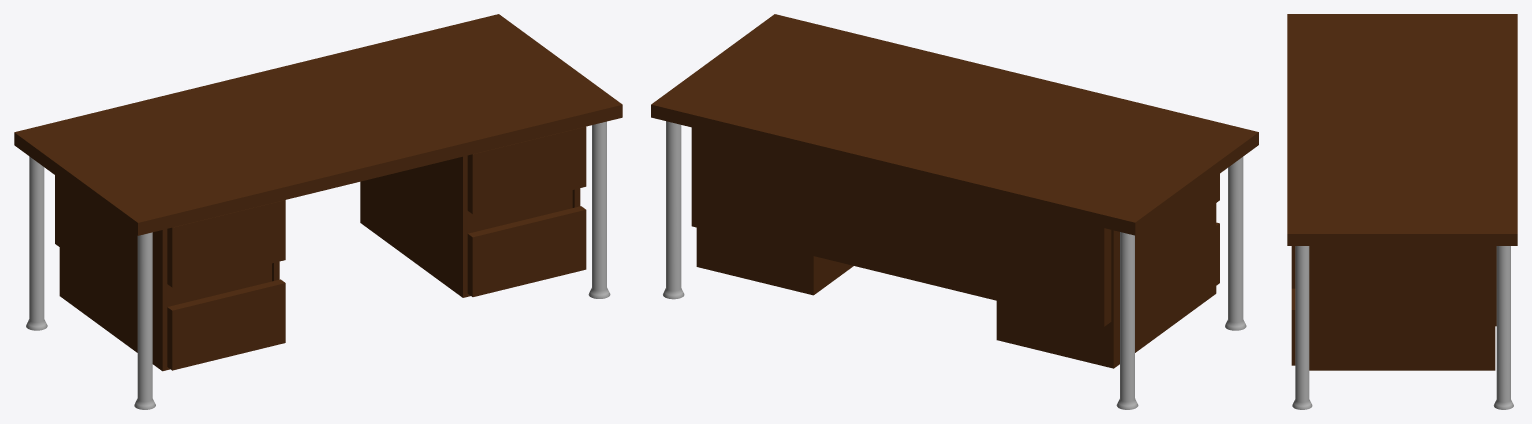
The model's file is desk.glb.
3 views of the same model, side by side, from view 1: azimuth 30°, elevation 25°; view 2: azimuth 150°, elevation 25°; view 3: azimuth 270°, elevation 25° (orthographic). The views are drawn at different scales.
Visible parts, largest first — view 1: Surface, LeftDrawers, RightDrawers, BottomDrawer.001, BottomDrawer, TopDrawer.001, TopDrawer, BackLeftLeg, FrontLeftLeg, BackRightLeg, DrawerDivider.001, DrawerDivider; view 2: Surface, BackPlate, LeftDrawers, RightDrawers, FrontRightLeg, BackLeftLeg, FrontLeftLeg; view 3: Surface, RightDrawers, BackRightLeg, FrontRightLeg, BottomDrawer.001.
Boxes of the visible parts, left/top/right/bottom form: Surface: left=14, top=14, right=622, bottom=235; LeftDrawers: left=59, top=179, right=279, bottom=371; RightDrawers: left=360, top=155, right=580, bottom=297; BottomDrawer.001: left=467, top=206, right=586, bottom=296; BottomDrawer: left=167, top=279, right=285, bottom=370; TopDrawer.001: left=467, top=126, right=586, bottom=214; TopDrawer: left=167, top=200, right=285, bottom=287; BackLeftLeg: left=134, top=232, right=155, bottom=409; FrontLeftLeg: left=26, top=156, right=47, bottom=330; BackRightLeg: left=588, top=121, right=610, bottom=298; DrawerDivider.001: left=468, top=190, right=572, bottom=233; DrawerDivider: left=168, top=263, right=271, bottom=306; Surface: left=651, top=14, right=1258, bottom=235; BackPlate: left=691, top=127, right=1111, bottom=326; LeftDrawers: left=996, top=176, right=1216, bottom=368; RightDrawers: left=696, top=227, right=853, bottom=295; FrontRightLeg: left=663, top=121, right=684, bottom=299; BackLeftLeg: left=1225, top=157, right=1246, bottom=330; FrontLeftLeg: left=1116, top=232, right=1138, bottom=409; Surface: left=1287, top=14, right=1517, bottom=245; RightDrawers: left=1309, top=246, right=1495, bottom=370; BackRightLeg: left=1292, top=246, right=1312, bottom=409; FrontRightLeg: left=1493, top=246, right=1513, bottom=409; BottomDrawer.001: left=1291, top=288, right=1295, bottom=365.
Bounding box in the file's own units: 13.23 × 5.01 × 5.86.
